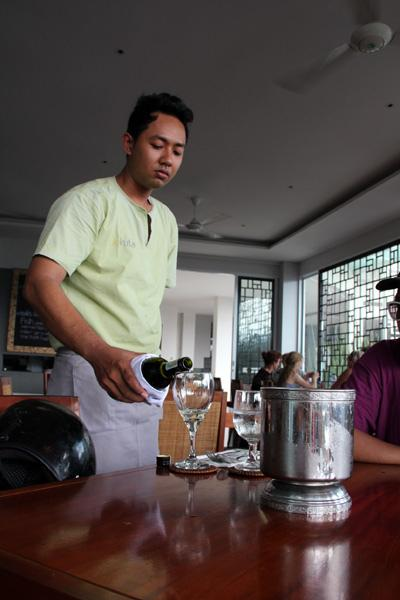person: (25, 91, 195, 475)
